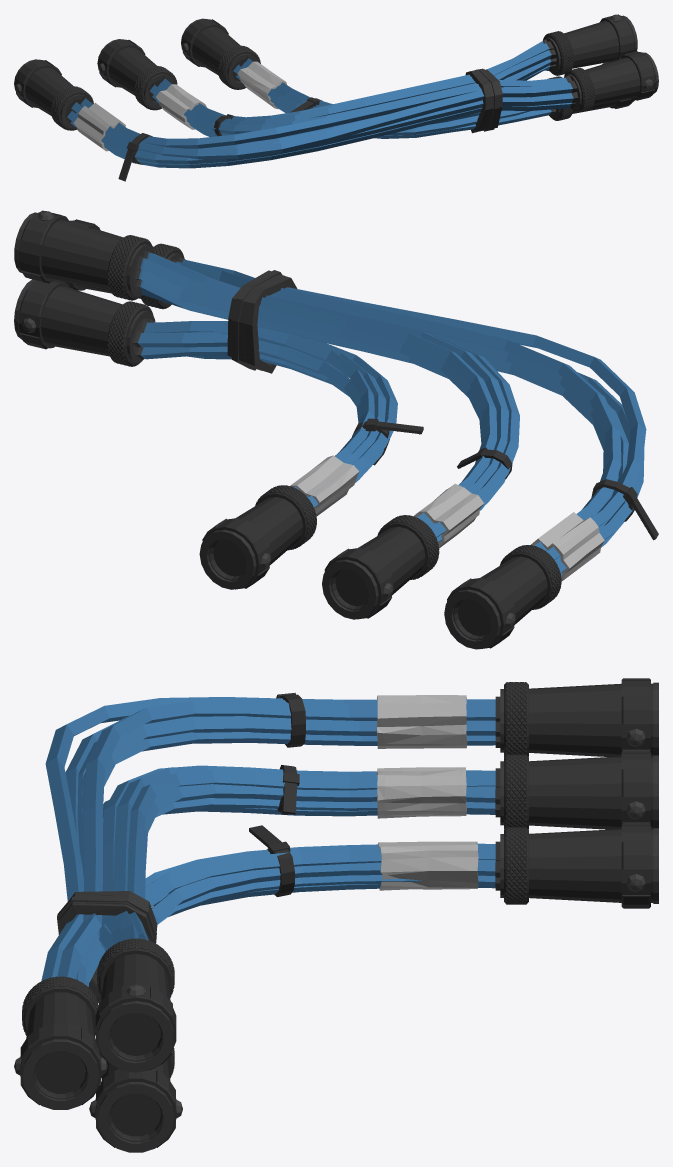
The model's file is cable-2-by-jeremy-eyring-9vCAxZ5BSLO.glb.
The picture shows the model from 3 angles, top to bottom: view 1: azimuth 30°, elevation 25°; view 2: azimuth 150°, elevation 25°; view 3: azimuth 270°, elevation 25°; orthographic projection. The views are drawn at different scales.
Parts seen in each view (by area): view 1: cable_02; view 2: cable_02; view 3: cable_02.
Boxes of the visible parts, x1,y1,x2,y2 form: cable_02: (14, 14, 658, 181); cable_02: (14, 210, 658, 649); cable_02: (14, 678, 658, 1152).
Size of the model in its own units: 141 by 25.58 by 93.49.
